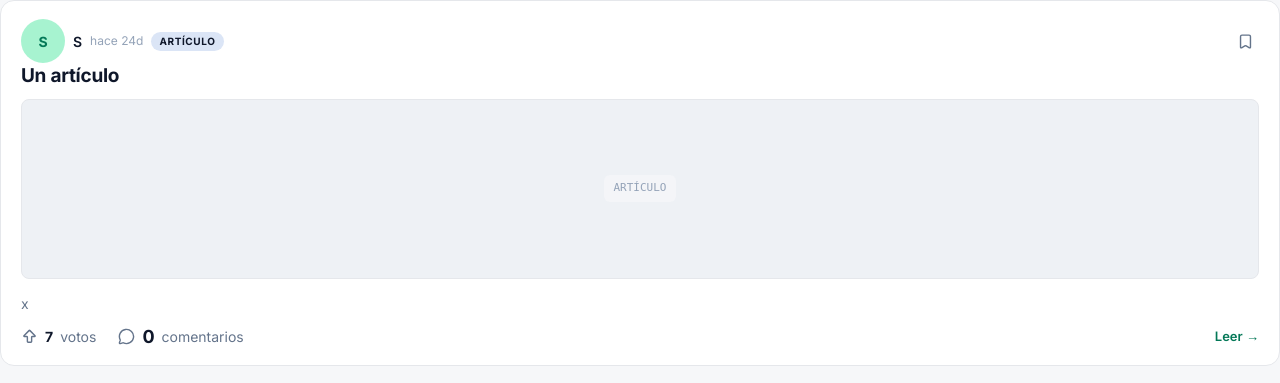
Test: a vacancy card › voting on an article moves its number
Step 1. Click the button "7 votos" → [59, 337], box [21,326,96,347]
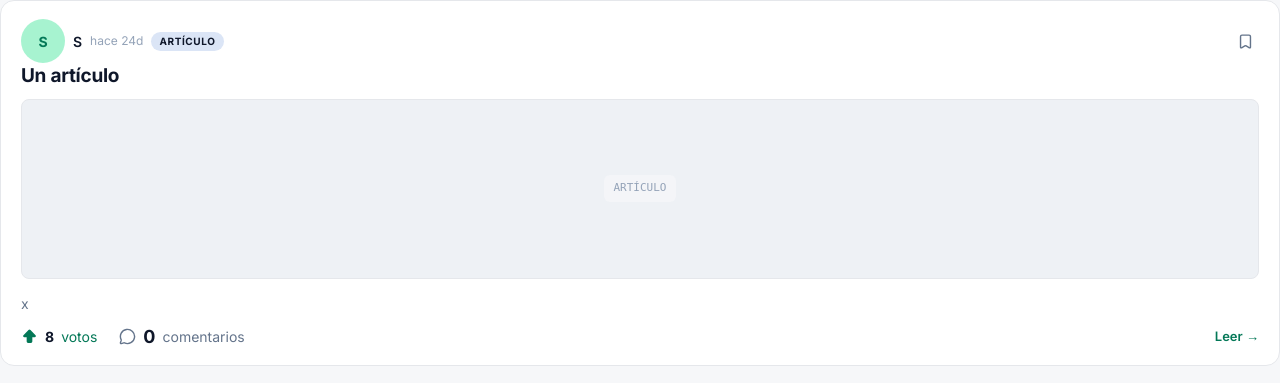
Result: the button "8 votos" is shown at [21,326,97,347]
